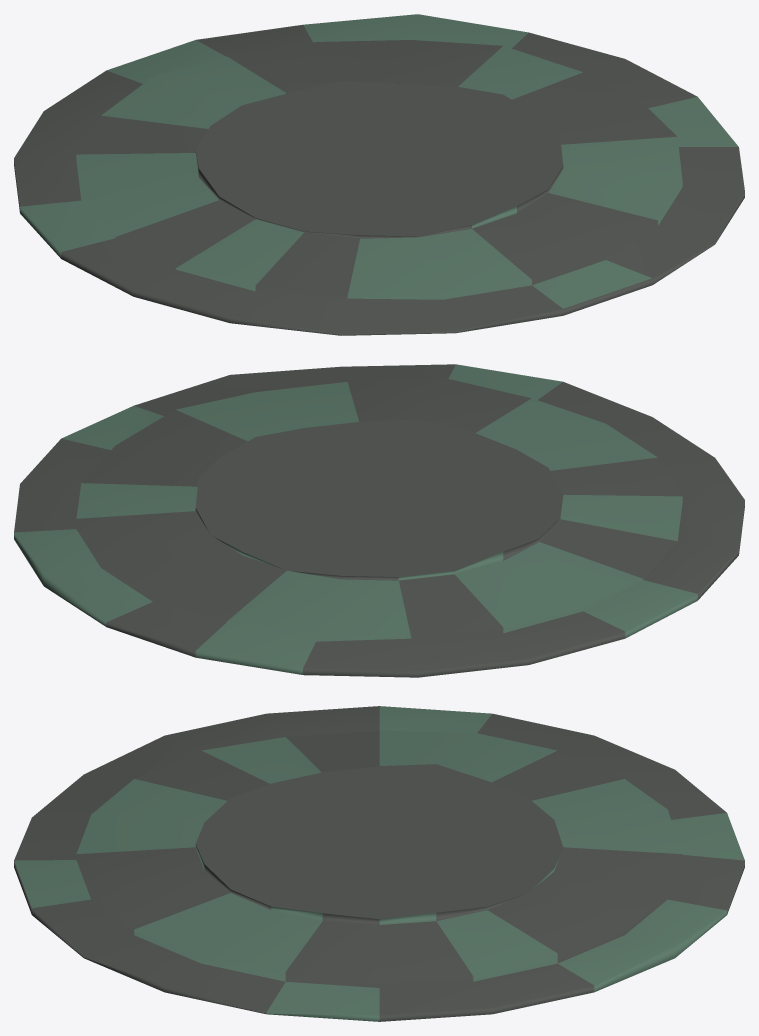
The model's file is Shrine Plate.fbx.
The picture shows the model from 3 angles, top to bottom: view 1: azimuth 30°, elevation 25°; view 2: azimuth 150°, elevation 25°; view 3: azimuth 270°, elevation 25°; orthographic projection.
Visible parts, largest first — view 1: pPipe4; view 2: pPipe4; view 3: pPipe4.
Part boxes in pixels (box(x1,y1,x2,y2)): pPipe4: box(14, 14, 744, 335); pPipe4: box(14, 364, 744, 677); pPipe4: box(14, 706, 744, 1021).
Bounding box in the file's own units: 0.2 × 0.00888 × 0.2.
